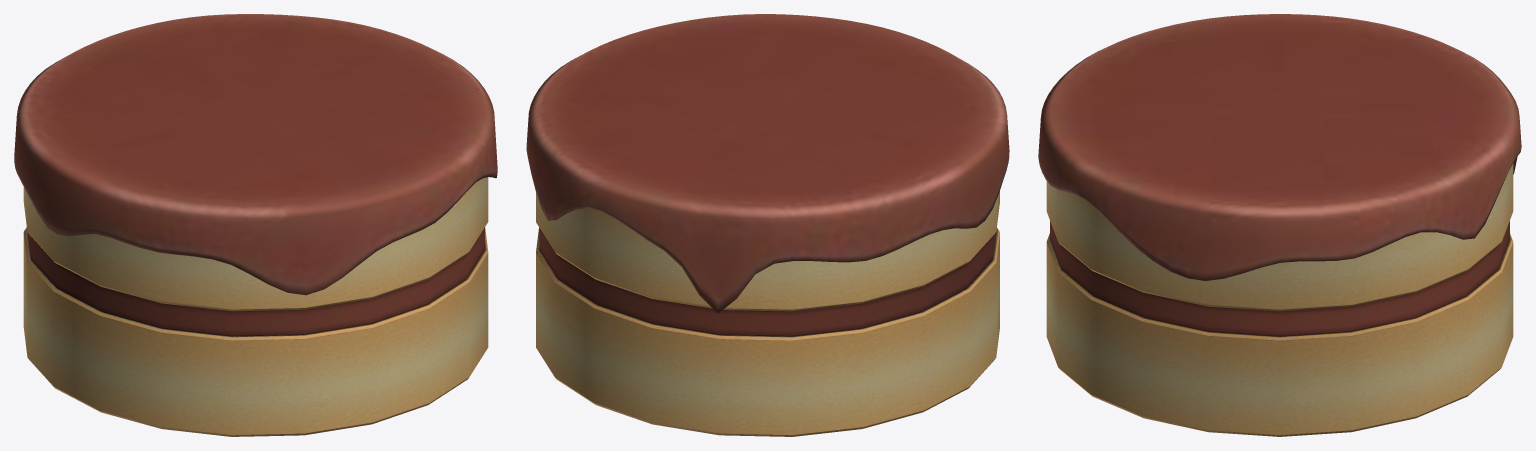
The model's file is chocolateCake.glb.
3 views of the same model, side by side, from view 1: azimuth 30°, elevation 25°; view 2: azimuth 150°, elevation 25°; view 3: azimuth 270°, elevation 25° (orthographic).
Parts seen in each view (by area): view 1: ChocolateCakeCreamLayer, JamCakeBottomLayer, JamCakeLayer, ChocolateCakeFilling; view 2: ChocolateCakeCreamLayer, JamCakeBottomLayer, JamCakeLayer, ChocolateCakeFilling; view 3: ChocolateCakeCreamLayer, JamCakeBottomLayer, JamCakeLayer, ChocolateCakeFilling.
Part boxes in pixels (x1,y1,x2,y2): ChocolateCakeCreamLayer: [14, 14, 497, 295]; JamCakeBottomLayer: [23, 227, 488, 436]; JamCakeLayer: [23, 177, 488, 311]; ChocolateCakeFilling: [27, 227, 484, 336]; ChocolateCakeCreamLayer: [526, 14, 1009, 313]; JamCakeBottomLayer: [536, 227, 999, 436]; JamCakeLayer: [536, 191, 999, 311]; ChocolateCakeFilling: [539, 228, 996, 336]; ChocolateCakeCreamLayer: [1038, 14, 1521, 280]; JamCakeBottomLayer: [1046, 233, 1513, 436]; JamCakeLayer: [1046, 163, 1513, 311]; ChocolateCakeFilling: [1050, 221, 1509, 336].
Size of the model in its own units: 0.2749 by 0.1435 by 0.2749.
1 material, 1 textured.
